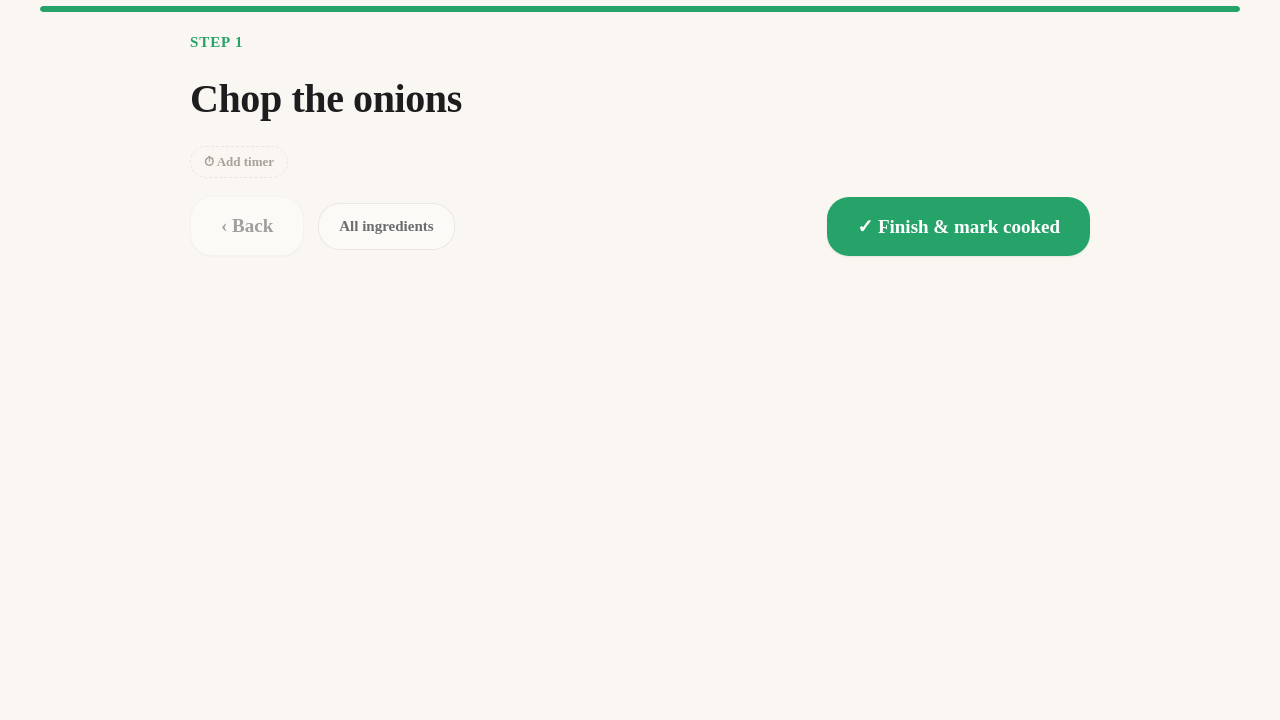
Scenario: CookMode — on-the-spot timer › starts a running timer tied to the current step and shows it in the dock
The width and height of the screenshot is (1280, 720).
Check: the text "Chop the onions" is shown, box [190,73,462,124]
# Open the add-timer control.
Click the button "⏱ Add timer": (239, 162) [190,146,288,178]
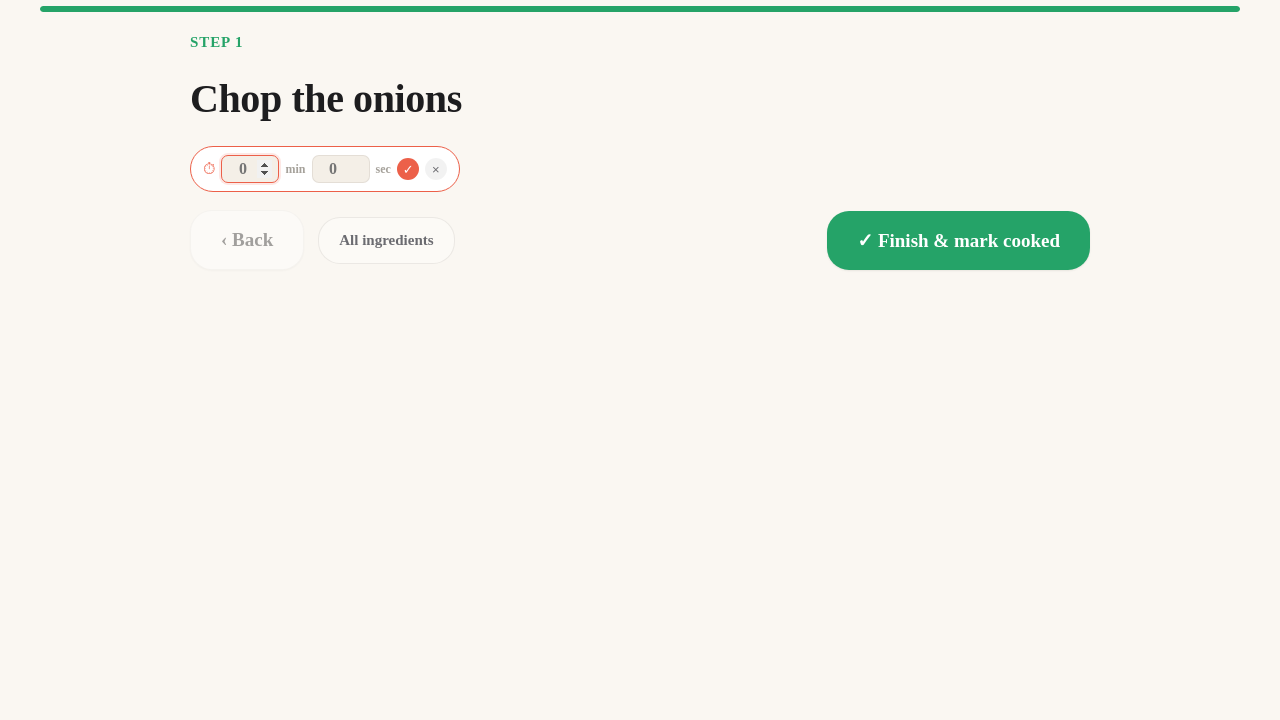
In the number field named "minutes": (250, 169) [222,155,280,183], type "5"
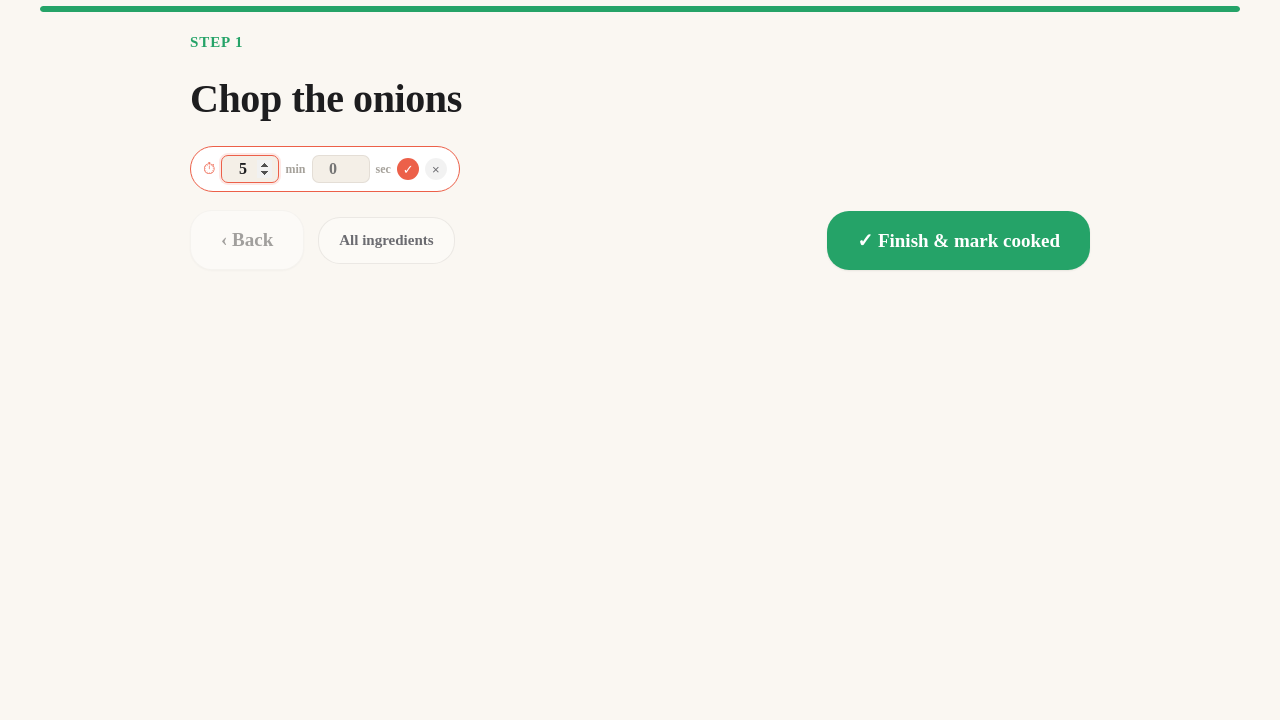
In the number field named "seconds": (340, 169) [312,155,370,183], type "30"
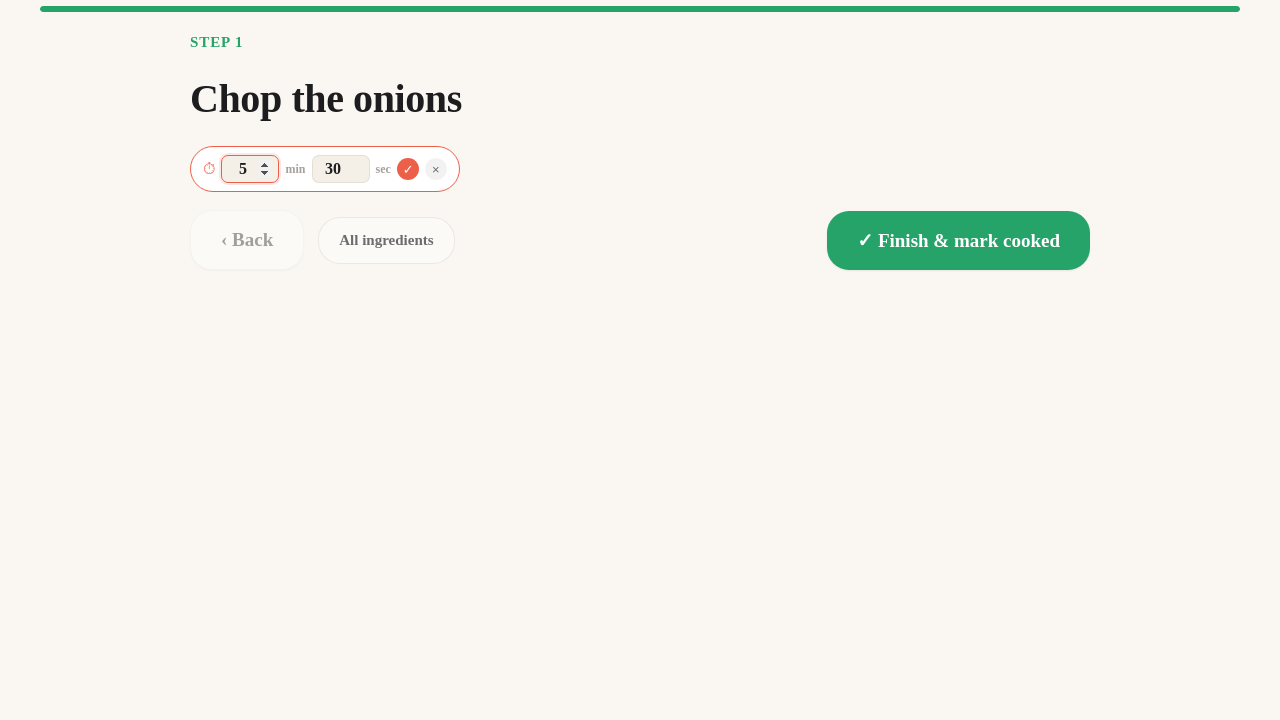
# Confirm — starts the timer (✓ button on the shared timer-edit row).
Click the button named "start timer": (408, 169) [397,158,419,180]
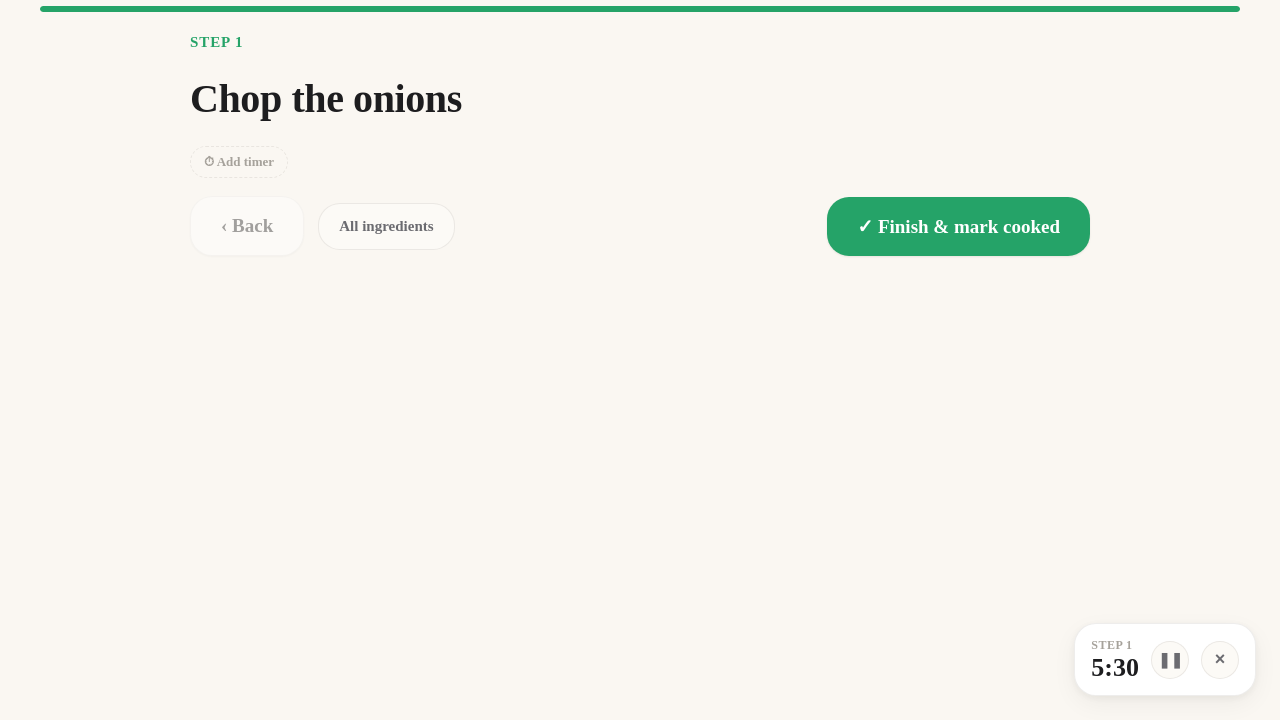
Check: the message shows "Step 1", box [1091,638,1132,652]
Check: the message shows "5:30", box [1091,653,1139,682]
Check: the button named "pause timer" is shown, box [1151,640,1189,678]
